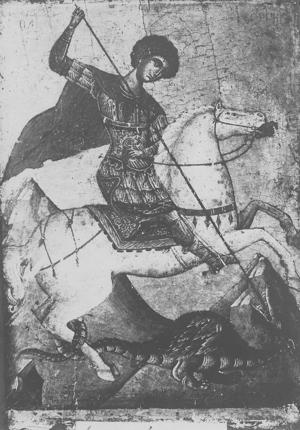dragon: (17, 283, 298, 387)
horse: (1, 104, 300, 332)
knight: (51, 6, 236, 274)
lance: (78, 3, 270, 321)
